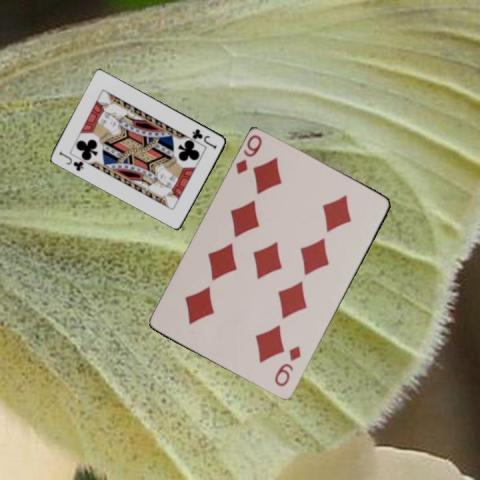9d: (271, 343, 303, 389), (233, 132, 264, 176)
Jc: (56, 148, 85, 173), (189, 126, 219, 150)
